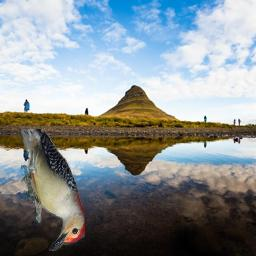Woodpecker: (21, 129, 85, 251)
